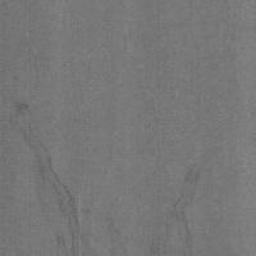Water spot: (0, 36, 100, 256), (148, 147, 218, 256), (101, 215, 128, 256)
